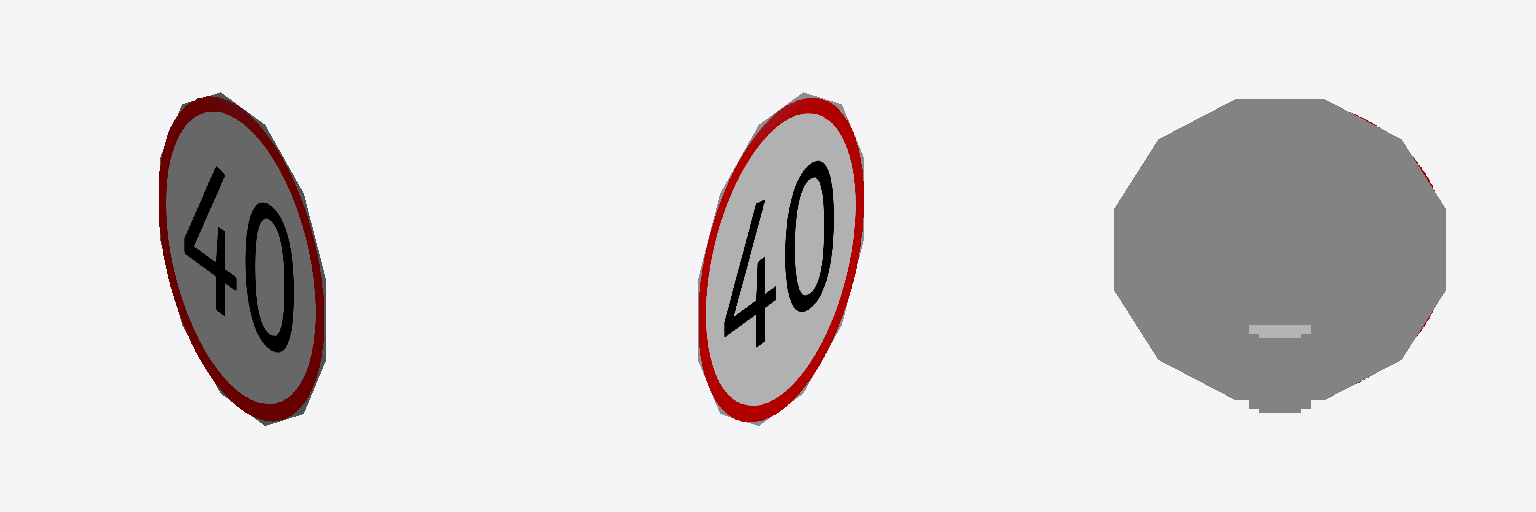
The picture shows the model from 3 angles: view 1: azimuth 30°, elevation 25°; view 2: azimuth 150°, elevation 25°; view 3: azimuth 270°, elevation 25°; orthographic projection.
Parts seen in each view (by area): view 1: cube, circle; view 2: cube, circle; view 3: circle, cube.
Boxes of the visible parts, x1=… form: cube: x1=159, y1=96, x2=323, y2=421; circle: x1=160, y1=92, x2=325, y2=425; cube: x1=699, y1=98, x2=863, y2=421; circle: x1=698, y1=92, x2=863, y2=425; circle: x1=1114, y1=99, x2=1445, y2=399; cube: x1=1249, y1=112, x2=1434, y2=412.
Bounding box in the file's own units: 0.0484 × 0.5 × 0.5.
2 materials, 1 textured.